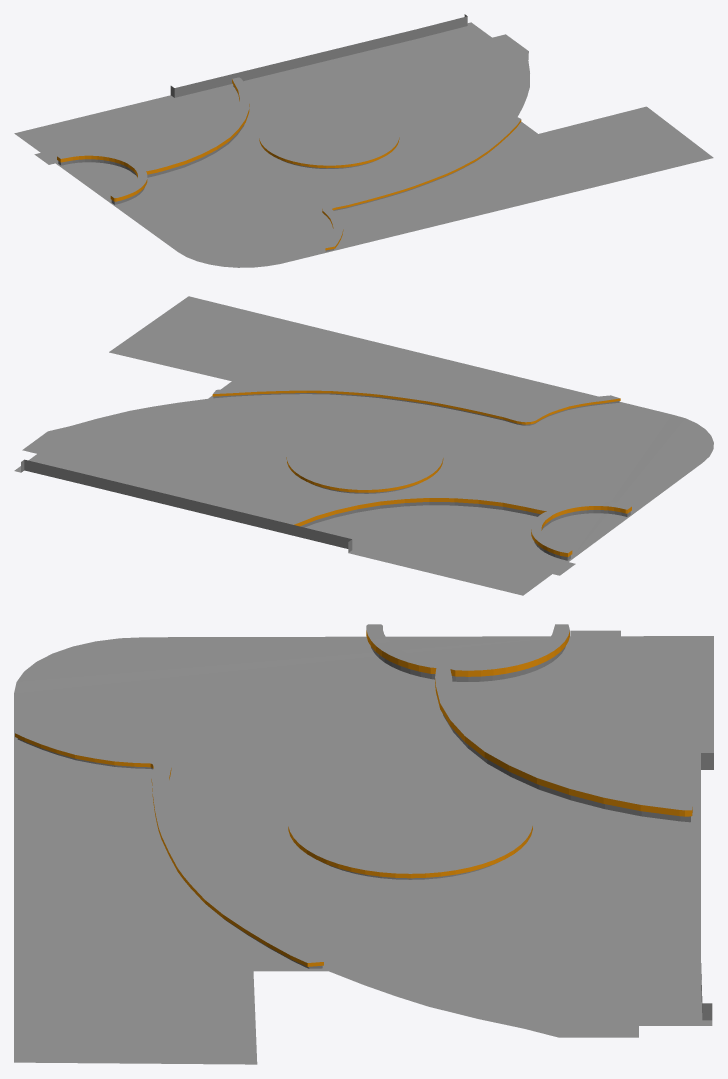
Rendered from tianhuaban.FBX.
3 views of the same model, one above another, from view 1: azimuth 30°, elevation 25°; view 2: azimuth 150°, elevation 25°; view 3: azimuth 270°, elevation 25° (orthographic). The views are drawn at different scales.
Visible parts, largest first — view 1: tianhuaban, tian xuan, tianhuadeng; view 2: tianhuaban, tian xuan, tianhuadeng; view 3: tianhuaban, tian xuan, tianhuadeng.
Part boxes in pixels (box(x1,y1,x2,y2)): tianhuaban: box(14, 22, 713, 267); tian xuan: box(57, 14, 521, 248); tianhuadeng: box(57, 79, 521, 250); tianhuaban: box(14, 296, 713, 595); tian xuan: box(21, 385, 631, 560); tianhuadeng: box(212, 390, 631, 556); tianhuaban: box(14, 630, 713, 1064); tian xuan: box(15, 624, 713, 1020); tianhuadeng: box(15, 630, 692, 966).
Bounding box in the file's own units: 0.8394 × 0.0158 × 0.5722.
